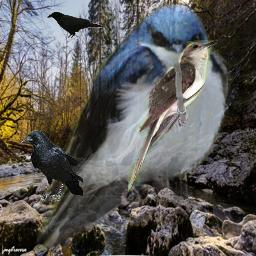Crow: (20, 130, 83, 203), (45, 10, 102, 38)
Cuckoo: (128, 40, 218, 192)
Swallow: (29, 1, 231, 252)
